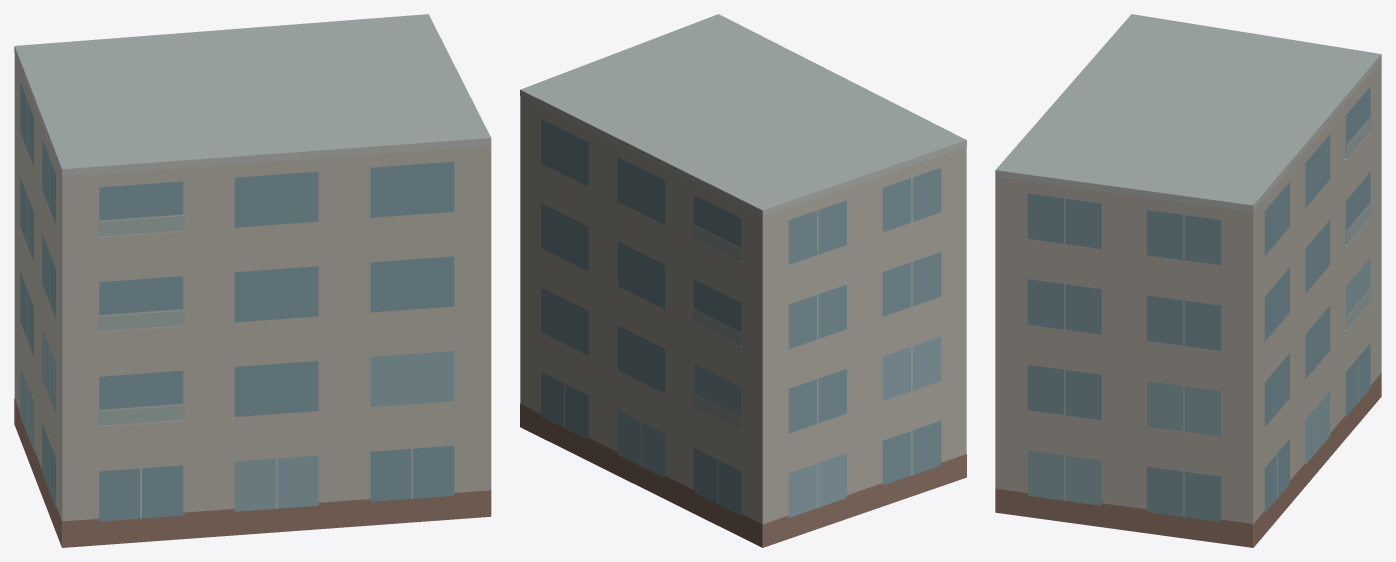
File: survey-upis-32890655.glb
3 renders of one model, left to right at view 1: azimuth 30°, elevation 25°; view 2: azimuth 150°, elevation 25°; view 3: azimuth 270°, elevation 25°, orthographic. The views are drawn at different scales.
Parts seen in each view (by area): view 1: survey-upis-32890655.tmp; view 2: survey-upis-32890655.tmp; view 3: survey-upis-32890655.tmp.
Part boxes in pixels (<box>): survey-upis-32890655.tmp: <box>14,14,491,547</box>; survey-upis-32890655.tmp: <box>520,14,966,547</box>; survey-upis-32890655.tmp: <box>995,14,1381,547</box>.
Size of the model in its own units: 15.36 by 12.8 by 13.09.
